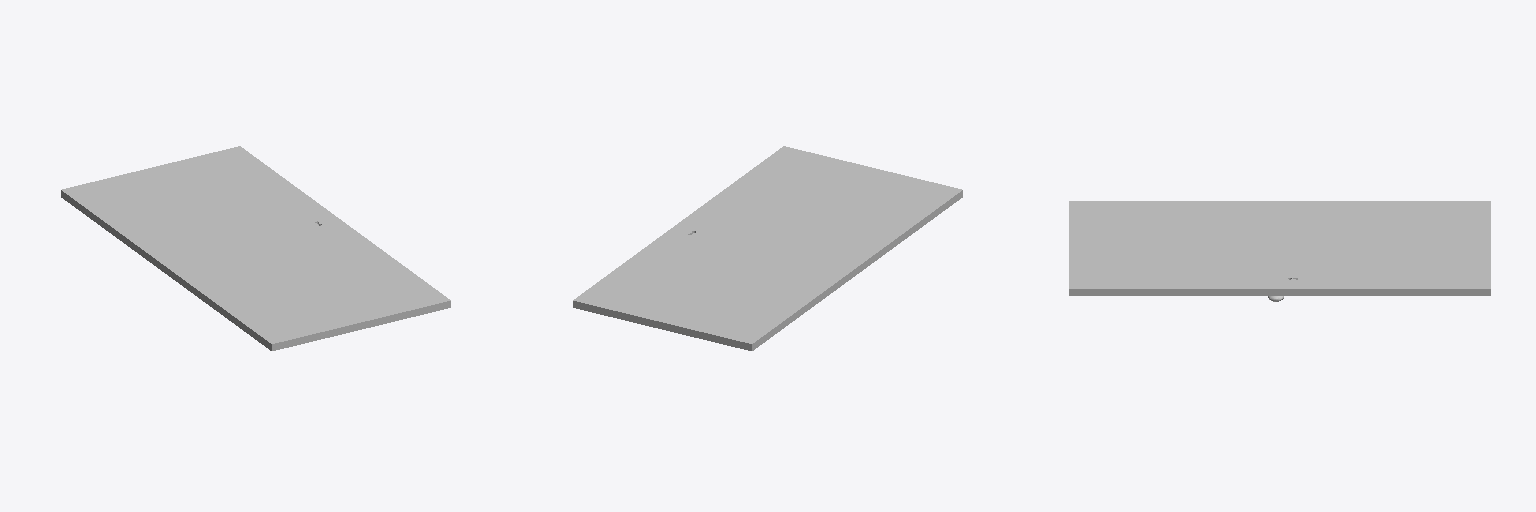
File: Door.obj
3 renders of one model, left to right at view 1: azimuth 30°, elevation 25°; view 2: azimuth 150°, elevation 25°; view 3: azimuth 270°, elevation 25°, orthographic.
Visible parts, largest first — view 1: obj_0; view 2: obj_0; view 3: obj_0.
Part boxes in pixels (x1,y1,x2,y2): obj_0: (61, 146, 450, 350); obj_0: (573, 146, 962, 350); obj_0: (1069, 201, 1490, 301).
Size of the model in its own units: 26 by 3 by 53.